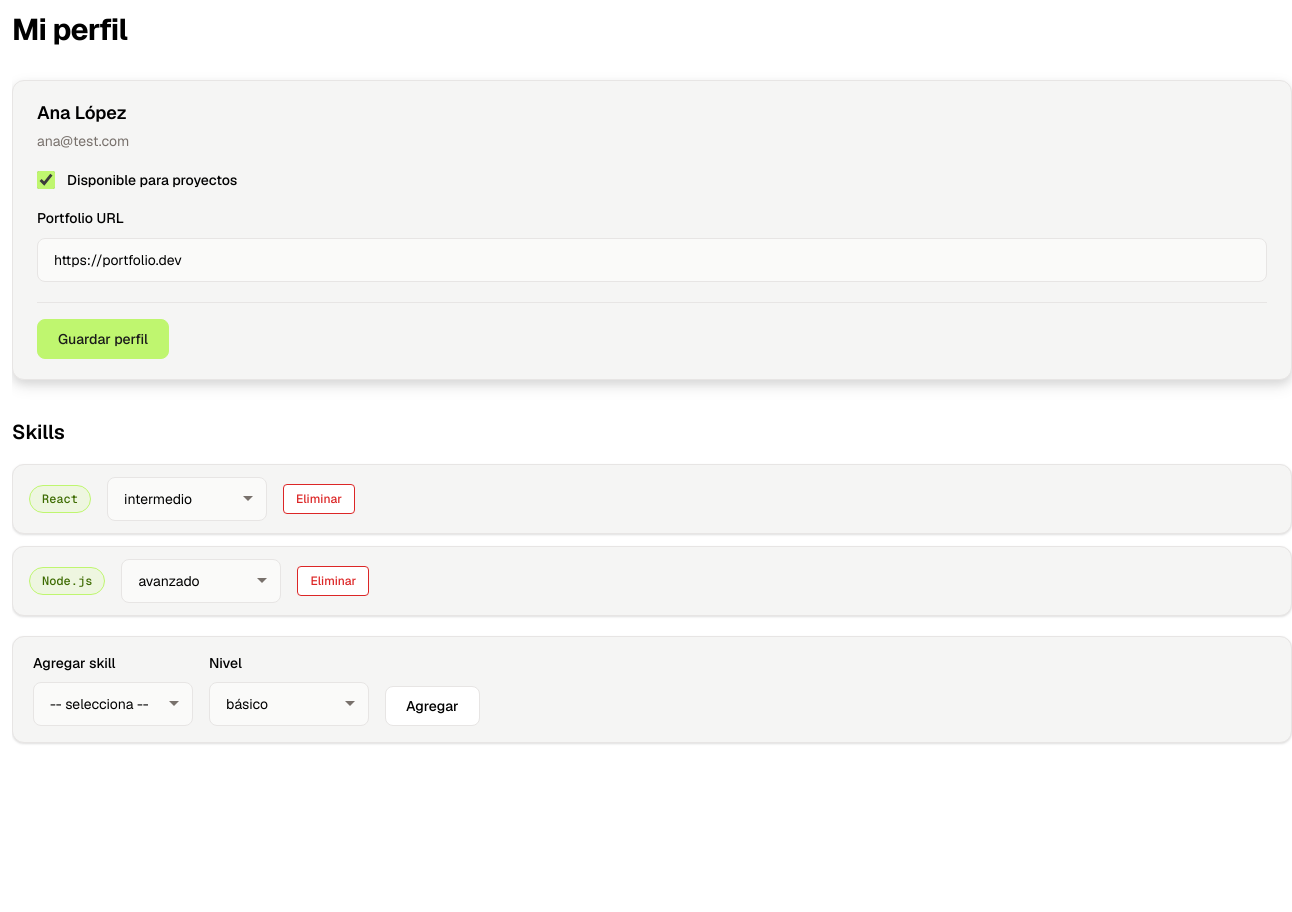
it: StudentProfilePage › AC6: muestra error visible si updateStudentMe falla
Expected: the heading "Ana López" is shown, [37,101,129,126]
Click the button "Guardar perfil" at (103, 339), box [37,319,169,359]
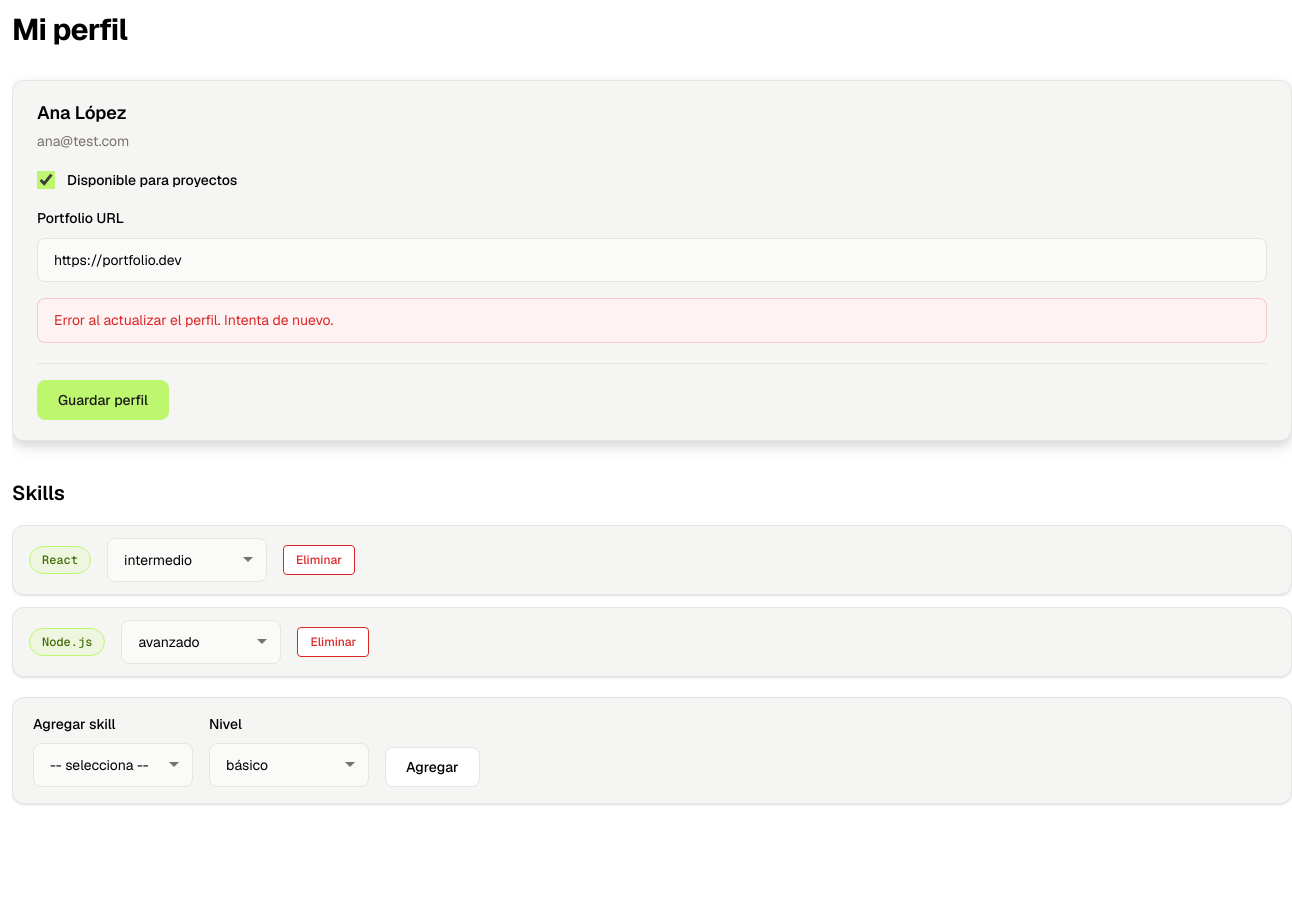
Result: the text "Error al actualizar el perfil. Intenta de nuevo." is shown at [37,298,1267,343]
